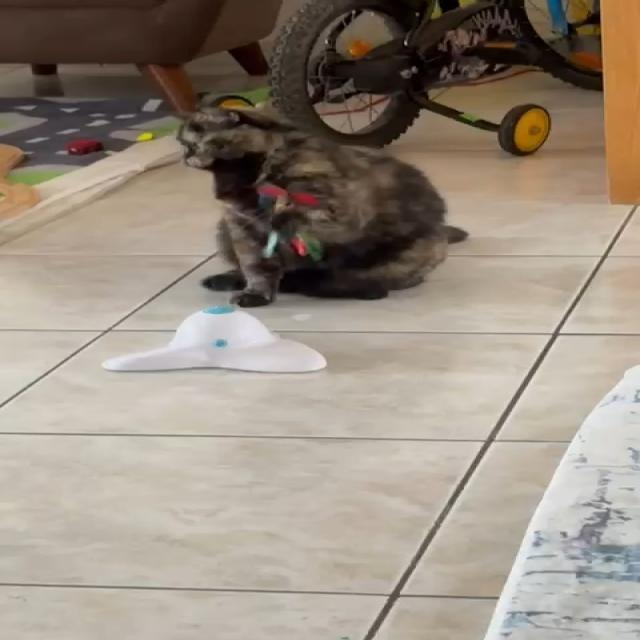authorized: (175, 103, 469, 307)
